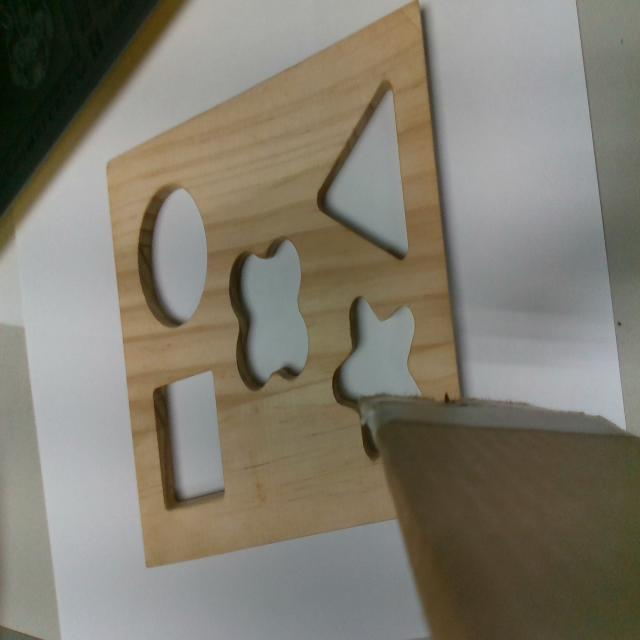circle: (139, 184, 208, 330)
flower: (232, 236, 306, 392)
square: (152, 366, 227, 514)
star: (332, 298, 424, 415)
triangle: (319, 78, 411, 260)
